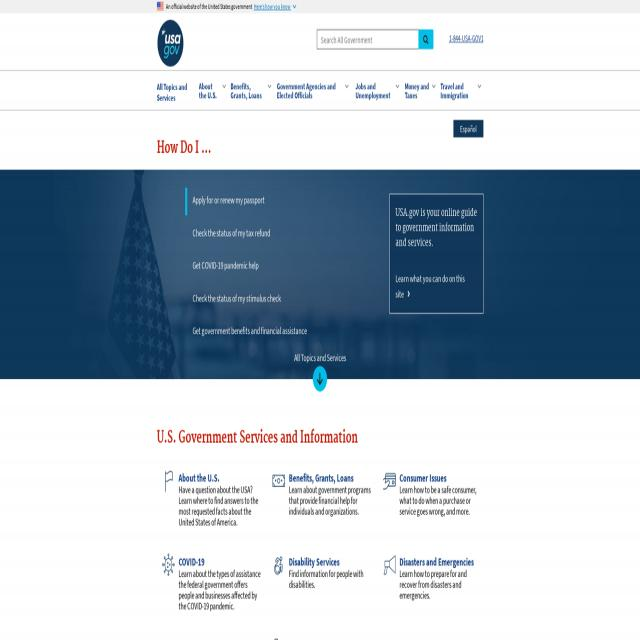button: (389, 194, 483, 314), (157, 465, 262, 543), (267, 465, 373, 532), (378, 465, 483, 532), (157, 550, 262, 614), (378, 554, 483, 612), (268, 549, 373, 606), (274, 70, 352, 110), (187, 222, 310, 243), (187, 320, 310, 341), (187, 190, 310, 210), (187, 255, 310, 275), (187, 288, 310, 308), (352, 70, 402, 110), (227, 70, 274, 110), (437, 70, 483, 110), (154, 70, 196, 110), (401, 70, 437, 110), (195, 70, 227, 110), (157, 19, 183, 67), (453, 120, 483, 137), (312, 366, 328, 392), (418, 29, 434, 49), (157, 0, 163, 12)
field: (317, 29, 418, 49)
